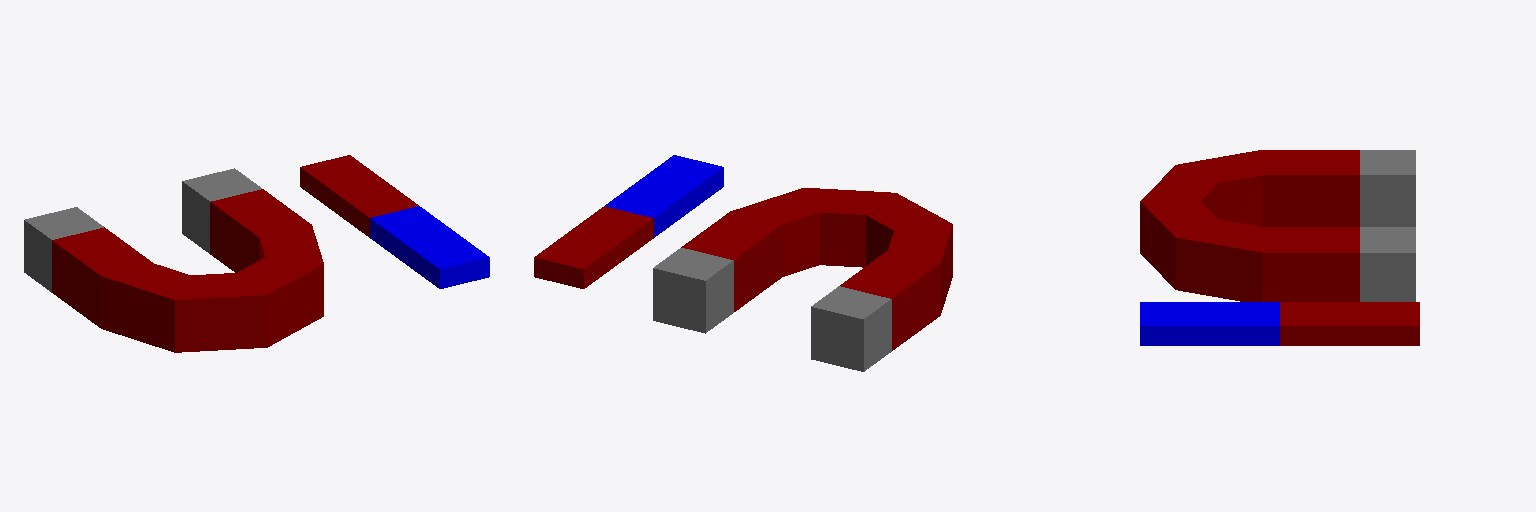
File: magnet.obj
The picture shows the model from 3 angles: view 1: azimuth 30°, elevation 25°; view 2: azimuth 150°, elevation 25°; view 3: azimuth 270°, elevation 25°; orthographic projection.
Size of the model in its own units: 3.11 by 0.4779 by 2.3.